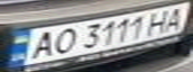1: (127, 12, 151, 39), (115, 16, 136, 43), (100, 18, 118, 46)
3: (78, 20, 103, 50)
A: (24, 28, 60, 61), (157, 4, 193, 33)
H: (142, 7, 175, 35)
O: (48, 25, 81, 55)
